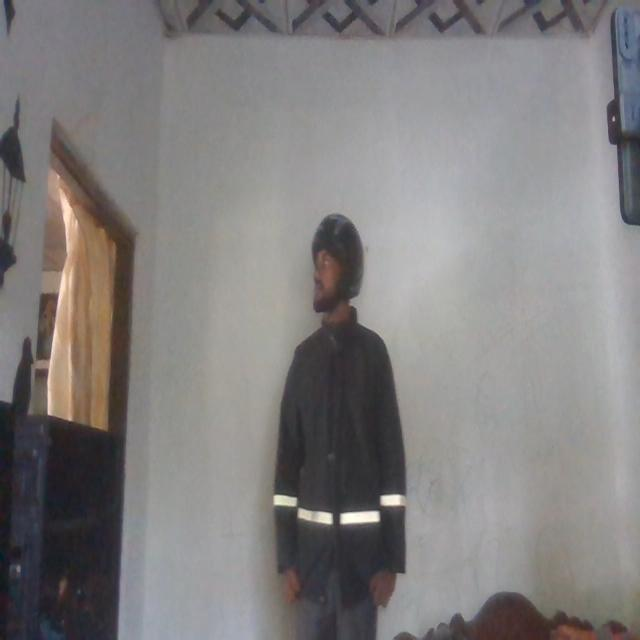Helmet_Wearer: (296, 205, 381, 332)
Jacket_Wearer: (272, 305, 406, 609)
Person: (271, 201, 413, 640)
